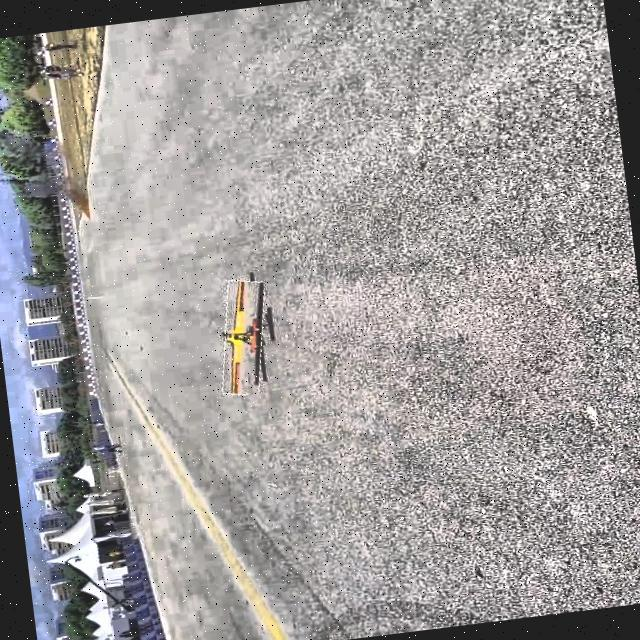iha: (243, 270, 249, 403)
